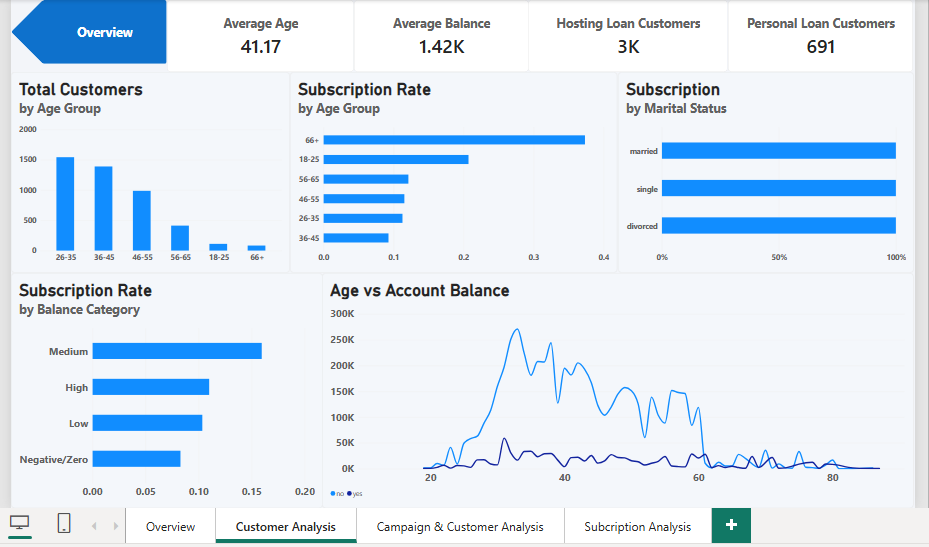

The dashboard page shown, as its layout file describes it:
{"tool":"powerbi","page":{"name":"Customer Analysis","canvas":[1920,1080],"ordinal":1},"visuals":[{"type":"cardVisual","fields":{"Data":["bank_cleaned.Average Age"]},"box":[331.1,0,397.8,153.3],"z":0},{"type":"cardVisual","fields":{"Data":["bank_cleaned.Average Balance"]},"box":[728.9,0,371.1,153.3],"z":1000},{"type":"cardVisual","fields":{"Data":["bank_cleaned.Hosting Loan Customers"]},"box":[1100,0,424.4,153.3],"z":2000},{"type":"cardVisual","fields":{"Data":["bank_cleaned.Personal Loan Customers"]},"box":[1524.4,0,393.3,153.3],"z":3000},{"type":"columnChart","title":"Total Customers","fields":{"Category":["bank_cleaned.age_group"],"Y":["bank_cleaned.Total Customers"]},"box":[0,153.3,593.3,426.7],"z":4000},{"type":"barChart","title":"Subscription Rate","fields":{"Category":["bank_cleaned.age_group"],"Y":["bank_cleaned.Subscription Rate"]},"box":[593.3,153.3,695.6,426.7],"z":5000},{"type":"hundredPercentStackedBarChart","title":"Subscription","fields":{"Category":["bank_cleaned.marital"],"Y":["CountNonNull(bank_cleaned.y)"]},"box":[1291.1,153.3,628.9,426.7],"z":6000},{"type":"clusteredBarChart","title":"Subscription Rate","fields":{"Category":["bank_cleaned.balance_category"],"Y":["bank_cleaned.Subscription Rate"]},"box":[0,580.4,663.3,499.6],"z":7000},{"type":"lineChart","title":"Age vs Account Balance","fields":{"Category":["bank_cleaned.age"],"Series":["bank_cleaned.y"],"Y":["Sum(bank_cleaned.balance)"]},"box":[662.2,580,1257.8,500],"z":8000},{"type":"actionButton","box":[0,0,331.1,135.6],"z":9000}]}

Visuals, with their boxes on the page's 1920x1080 design canvas (x1, y1, x2, y2). These are canvas units, not pixel positions in the 929x547 screenshot, which may show the page scaled, cropped or inside an application window:
cardVisual - bank_cleaned.Average Age: [left=331, top=0, right=729, bottom=153]
cardVisual - bank_cleaned.Average Balance: [left=729, top=0, right=1100, bottom=153]
cardVisual - bank_cleaned.Hosting Loan Customers: [left=1100, top=0, right=1524, bottom=153]
cardVisual - bank_cleaned.Personal Loan Customers: [left=1524, top=0, right=1918, bottom=153]
"Total Customers" columnChart: [left=0, top=153, right=593, bottom=580]
"Subscription Rate" barChart: [left=593, top=153, right=1289, bottom=580]
"Subscription" hundredPercentStackedBarChart: [left=1291, top=153, right=1920, bottom=580]
"Subscription Rate" clusteredBarChart: [left=0, top=580, right=663, bottom=1080]
"Age vs Account Balance" lineChart: [left=662, top=580, right=1920, bottom=1080]
actionButton: [left=0, top=0, right=331, bottom=136]
